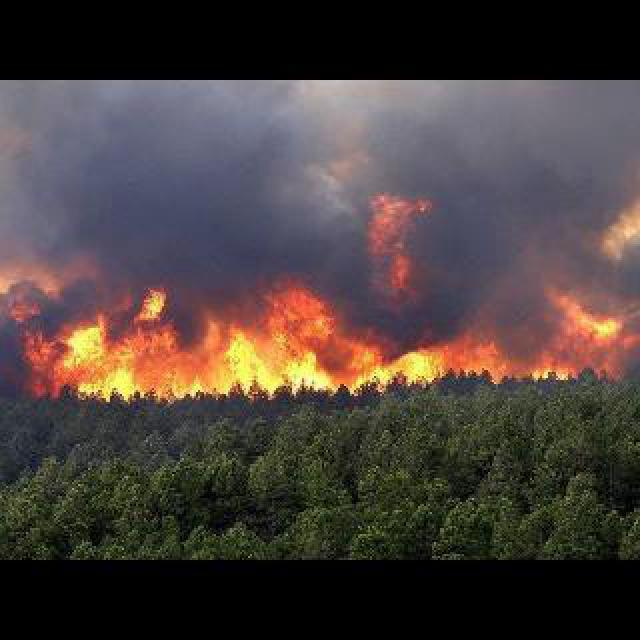fire: (24, 258, 640, 404), (355, 182, 442, 304)
